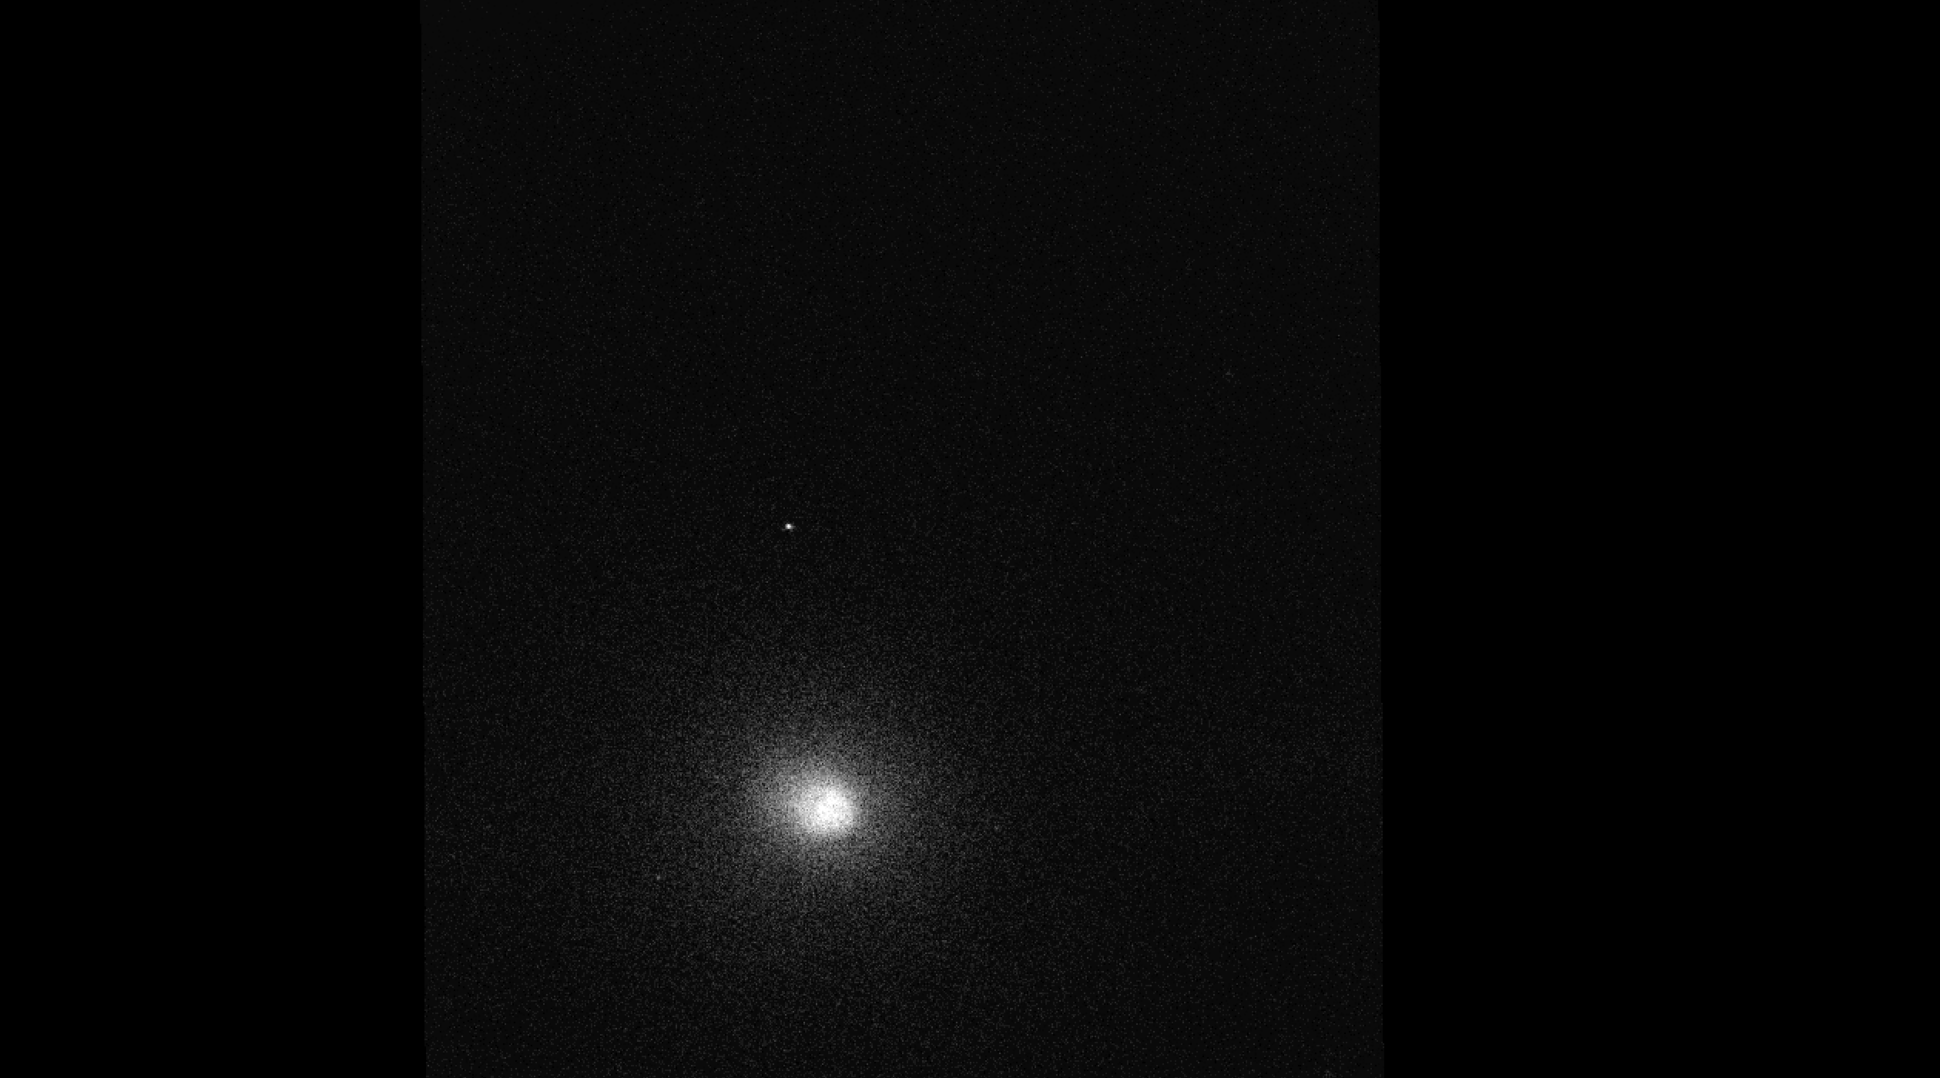Cavity: (837, 812, 851, 826), (809, 793, 821, 803)
Galaxy: (726, 738, 886, 862)
